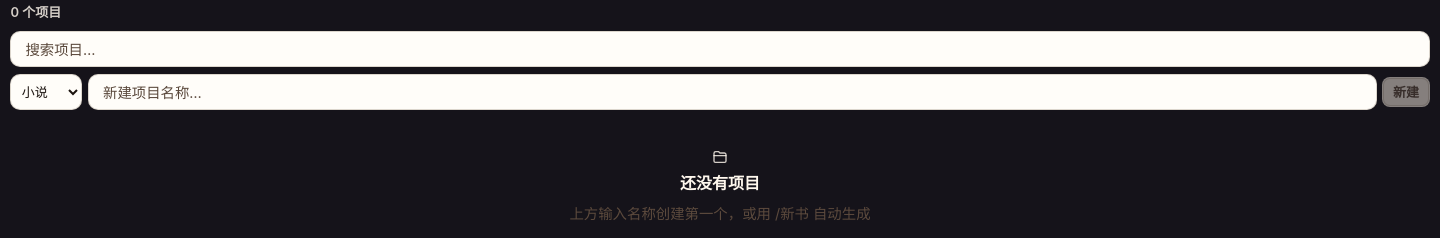
Test: ProjectTree › creates a short-drama project and selects its dedicated workspace kind
The width and height of the screenshot is (1440, 238).
Select "短剧" in the dropdown named "新项目类型" at (46, 92), box [10,74,82,110]
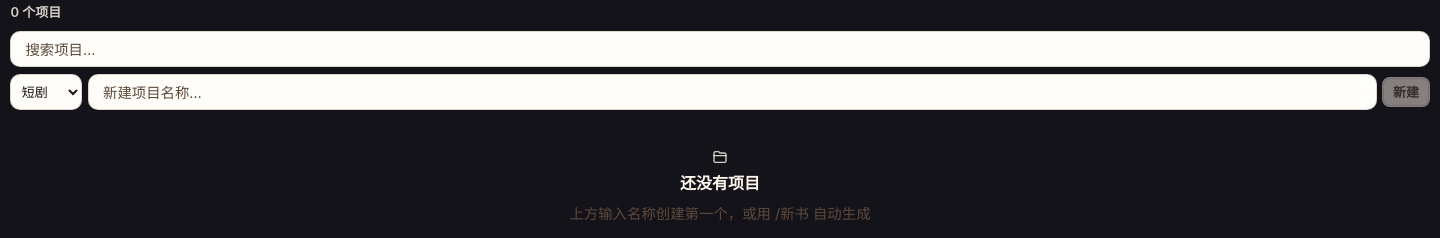
Type "竖屏短剧" into the field named "新项目名称" at (732, 92), box [88,74,1377,110]
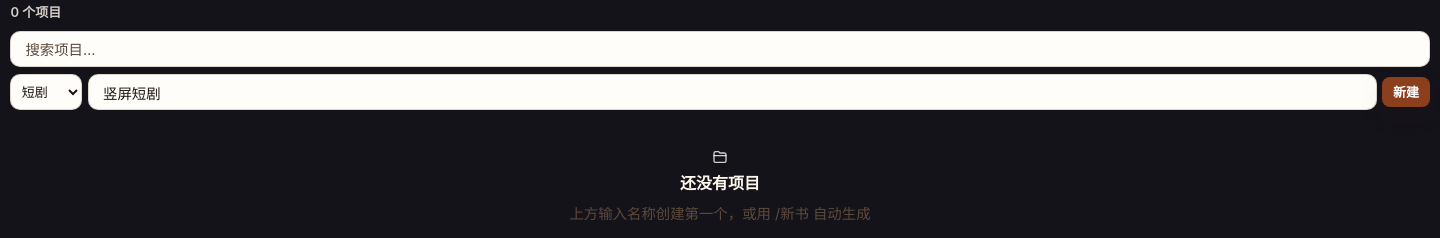
Click the button "新建" at (1406, 92), box [1382,77,1430,107]
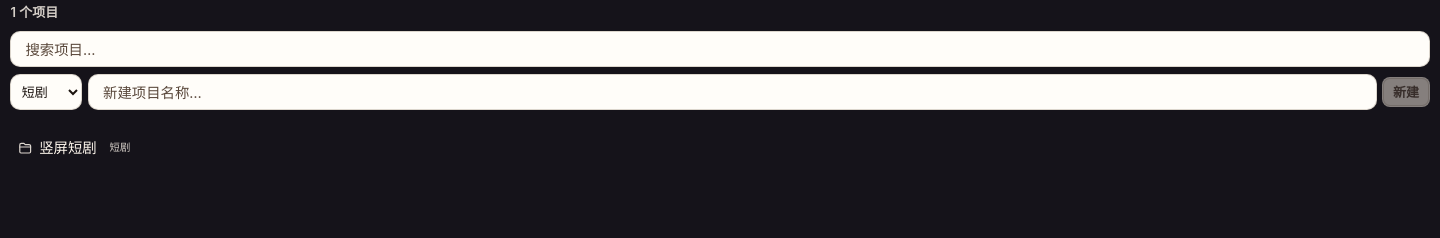
expect the text "竖屏短剧" is shown: met, box [39,136,97,160]
expect the text "短剧" is shown 2 times: met
